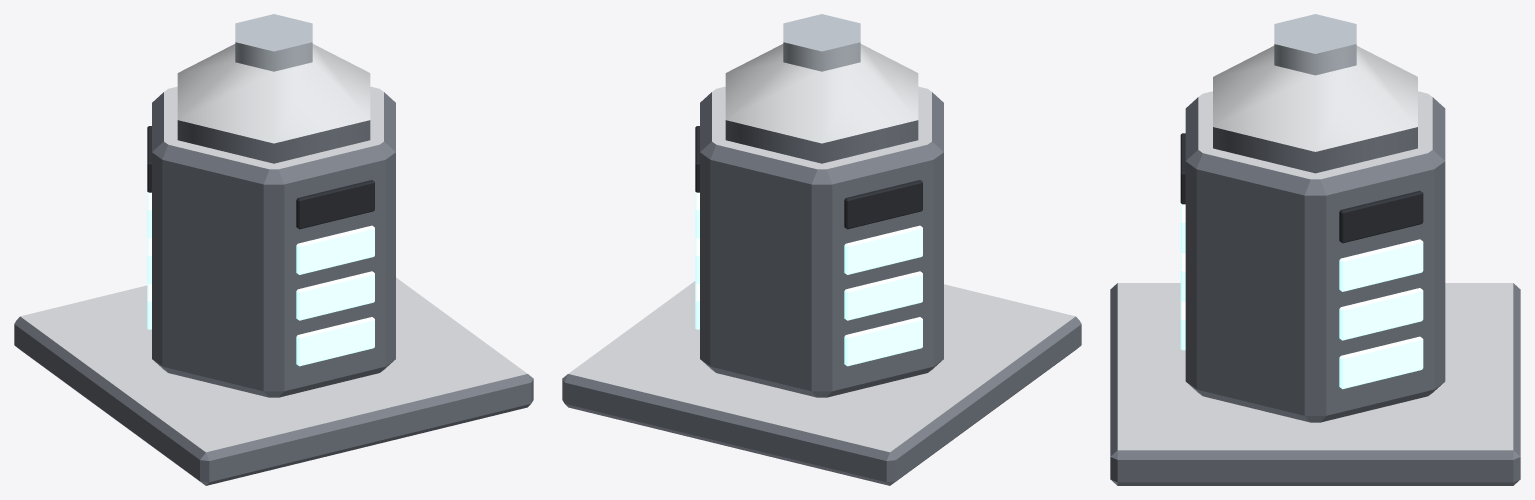
The model's file is R4X_ChargeCapacity_LOD1.fbx.
3 renders of one model, left to right at view 1: azimuth 30°, elevation 25°; view 2: azimuth 150°, elevation 25°; view 3: azimuth 270°, elevation 25°, orthographic. The views are drawn at different scales.
Visible parts, largest first — view 1: R4X_ChargeCapacity_LOD1; view 2: R4X_ChargeCapacity_LOD1; view 3: R4X_ChargeCapacity_LOD1.
Part boxes in pixels (x1,y1,x2,y2): R4X_ChargeCapacity_LOD1: (14,14,533,485); R4X_ChargeCapacity_LOD1: (562,14,1081,485); R4X_ChargeCapacity_LOD1: (1110,14,1520,485).
Size of the model in its own units: 0.52 by 0.515 by 0.52.
